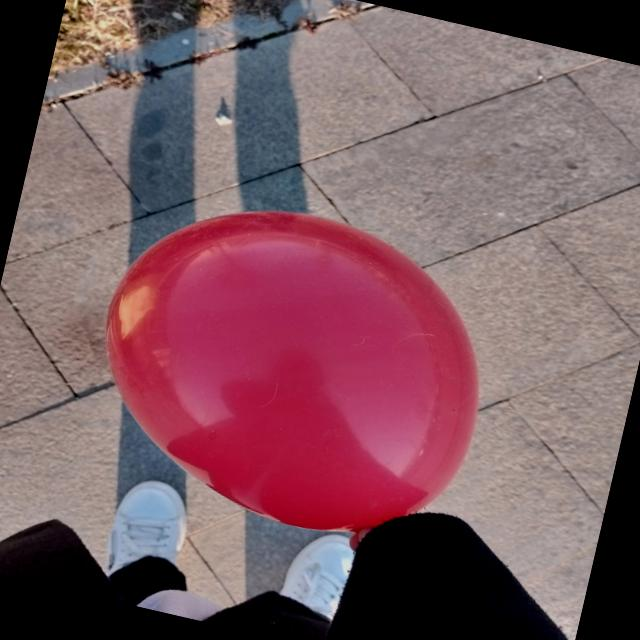balloon: (106, 211, 478, 530)
